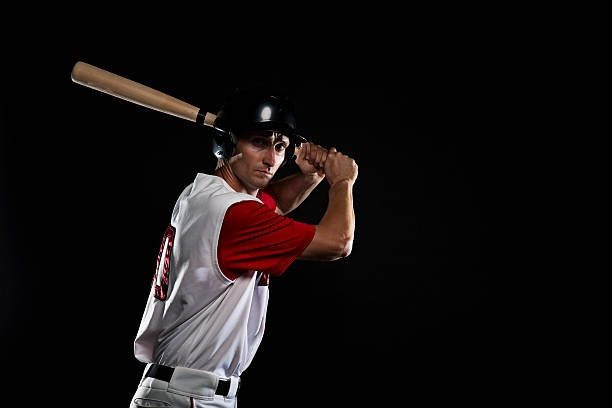bita: (73, 63, 225, 140)
